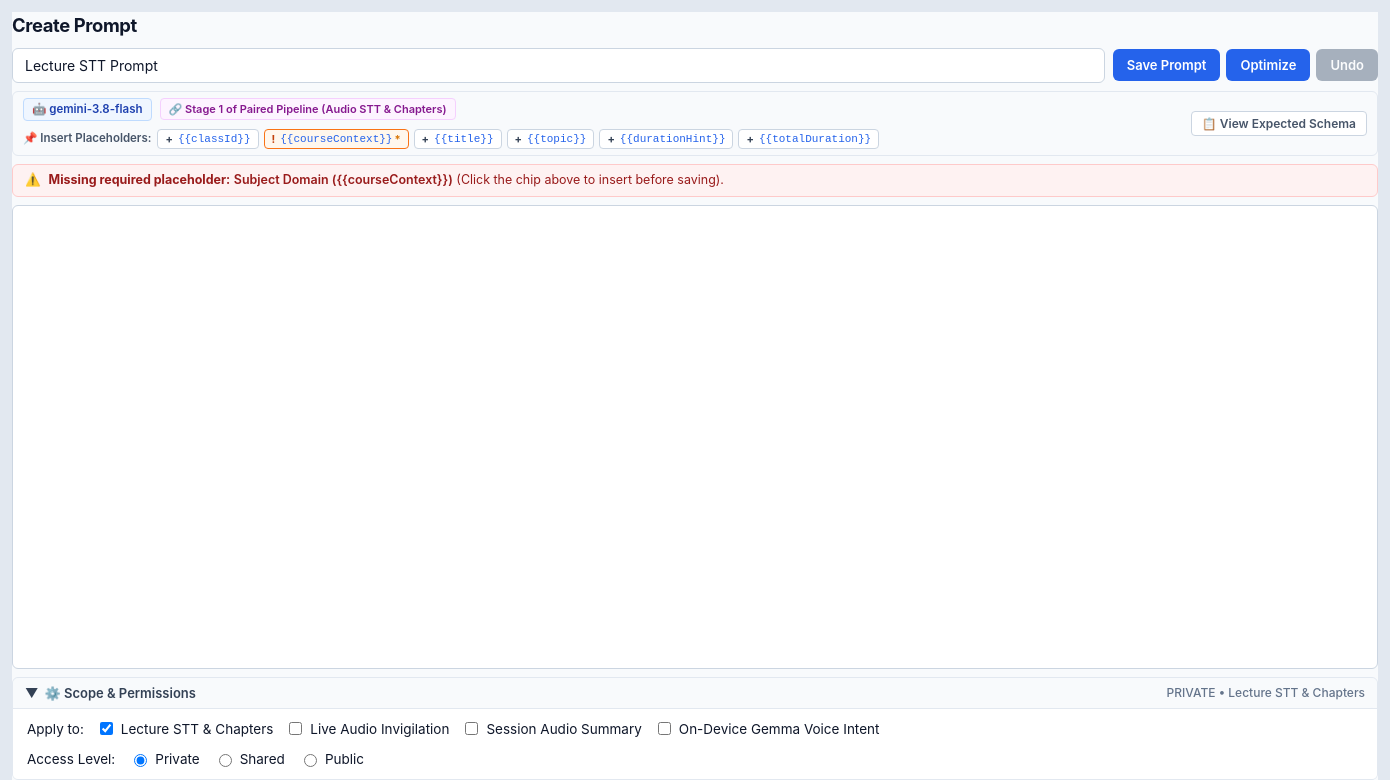
Test case: PromptForm Component › toggles output schema inspector and shows JSON format guide
Click the button "📋 View Expected Schema" at {"x": 1279, "y": 123}, box [1191,111,1367,136]
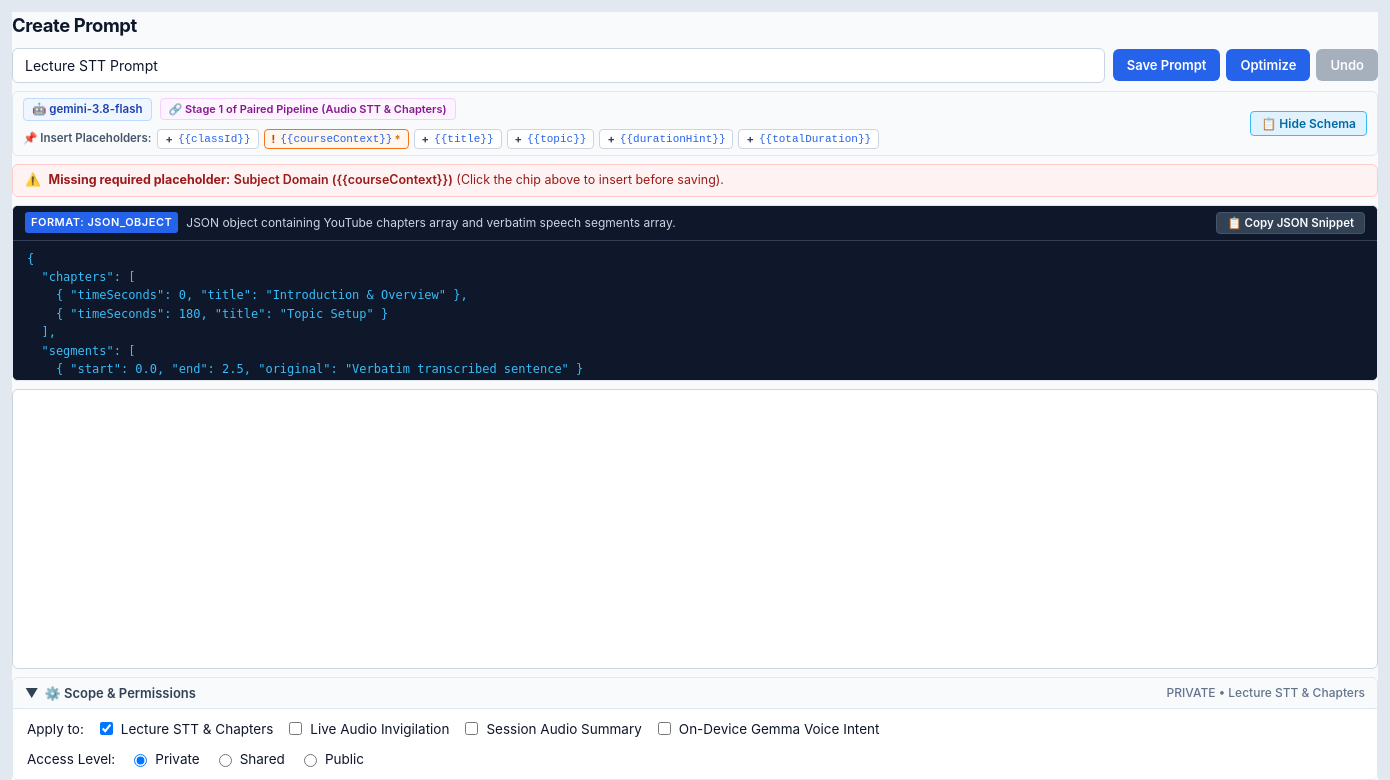
Now the text "Format: json_object" is shown, box [25,212,178,233]
Now the button "📋 Copy JSON Snippet" is shown, box [1216,212,1365,234]
